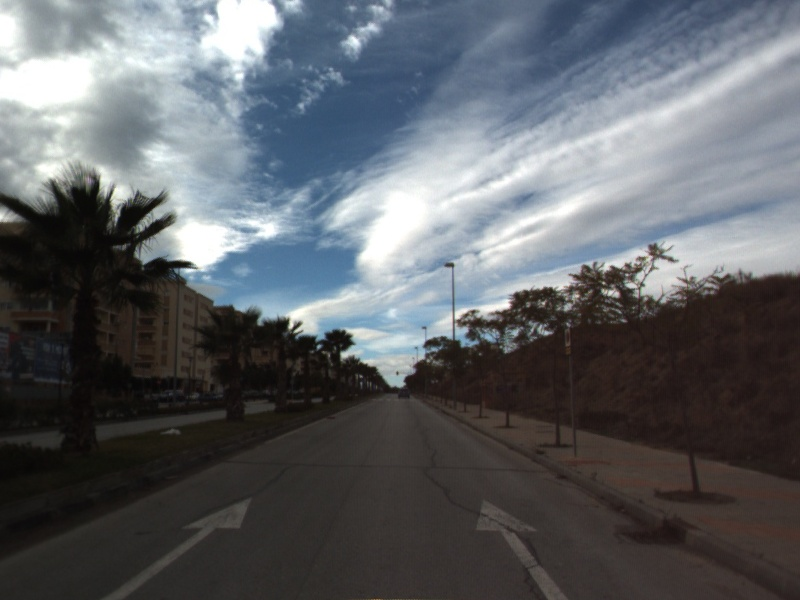STRAIGHT: (96, 493, 255, 600), (473, 496, 573, 600)
